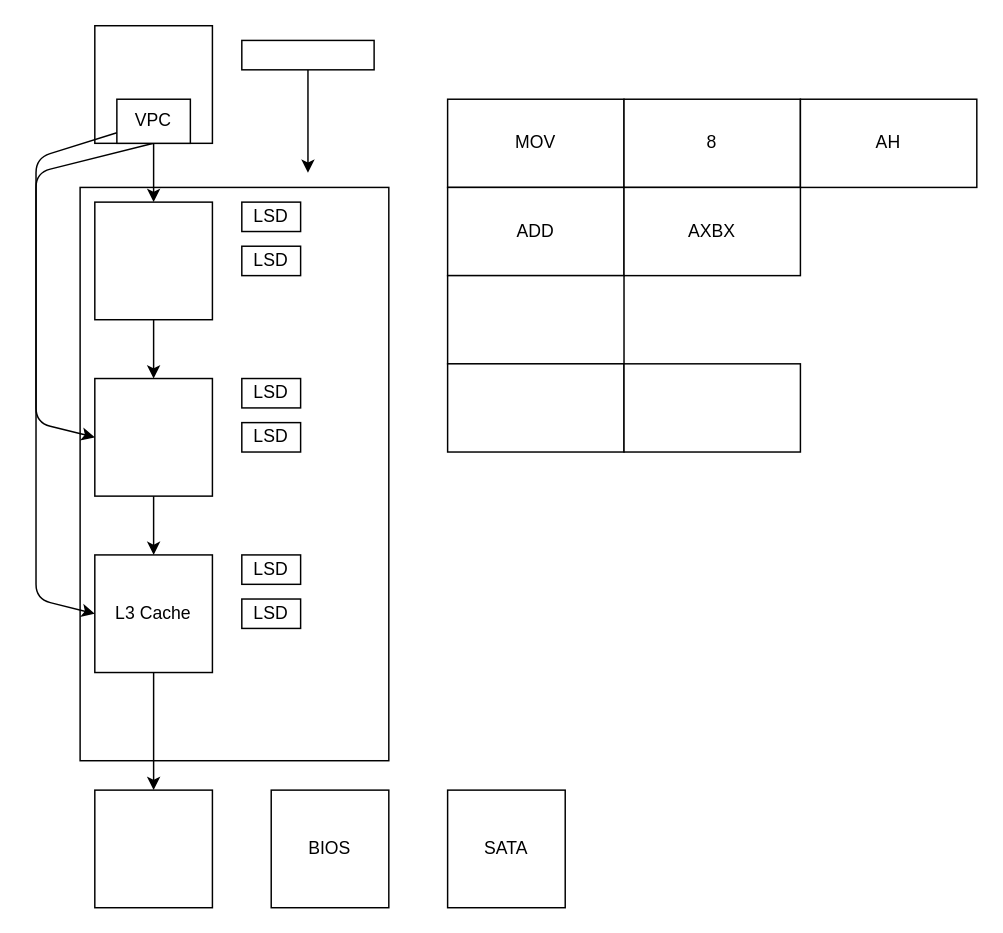
This 1003x933 diagram has some shape labels left out. The shapes that lost their labels are listed below. From the top down, each one's box as (x1, y1, x2, y2) in pixels, then its label:
(240, 39, 374, 70): Burst Address
(93, 24, 212, 143): Core
(93, 201, 212, 320): L1 Cache
(93, 377, 212, 496): L2 Cache
(93, 789, 212, 908): DDR
